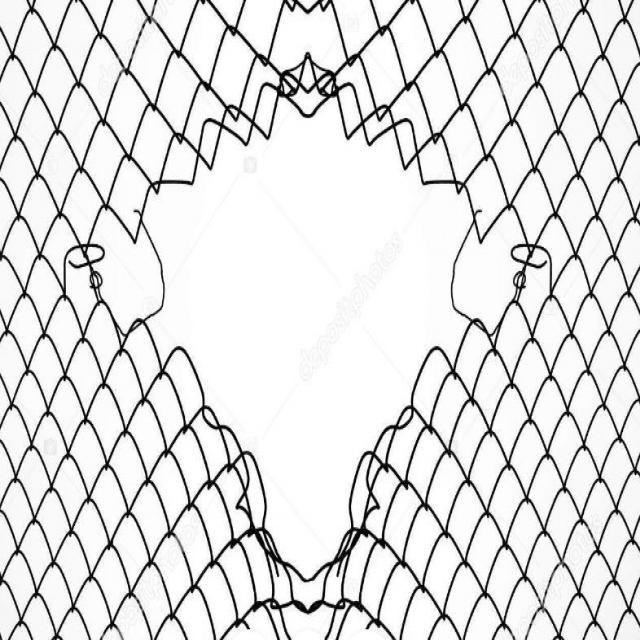fence line: (82, 71, 544, 577)
